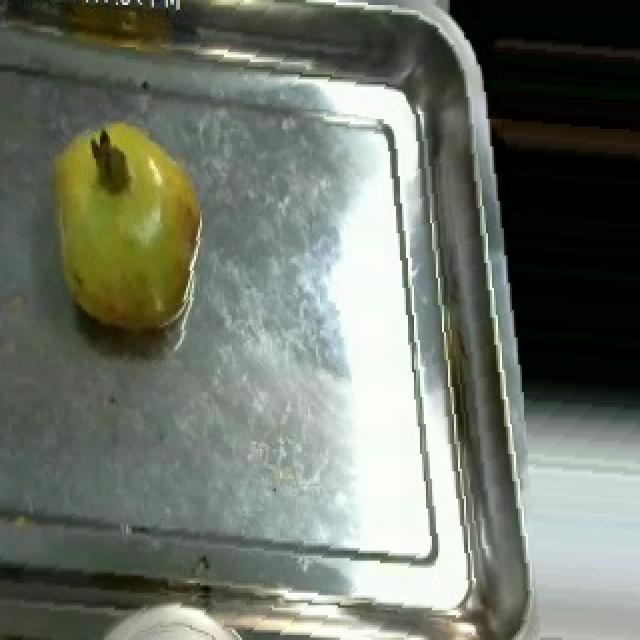fruit: (20, 99, 220, 355)
